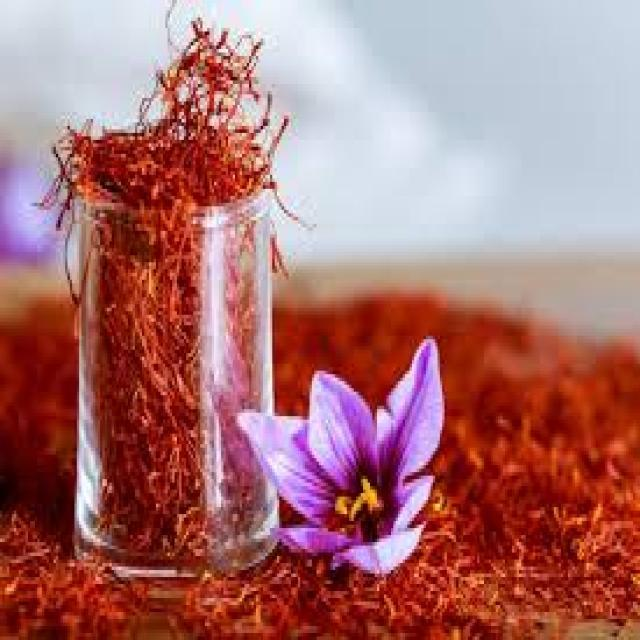Flower: (242, 326, 446, 572)
